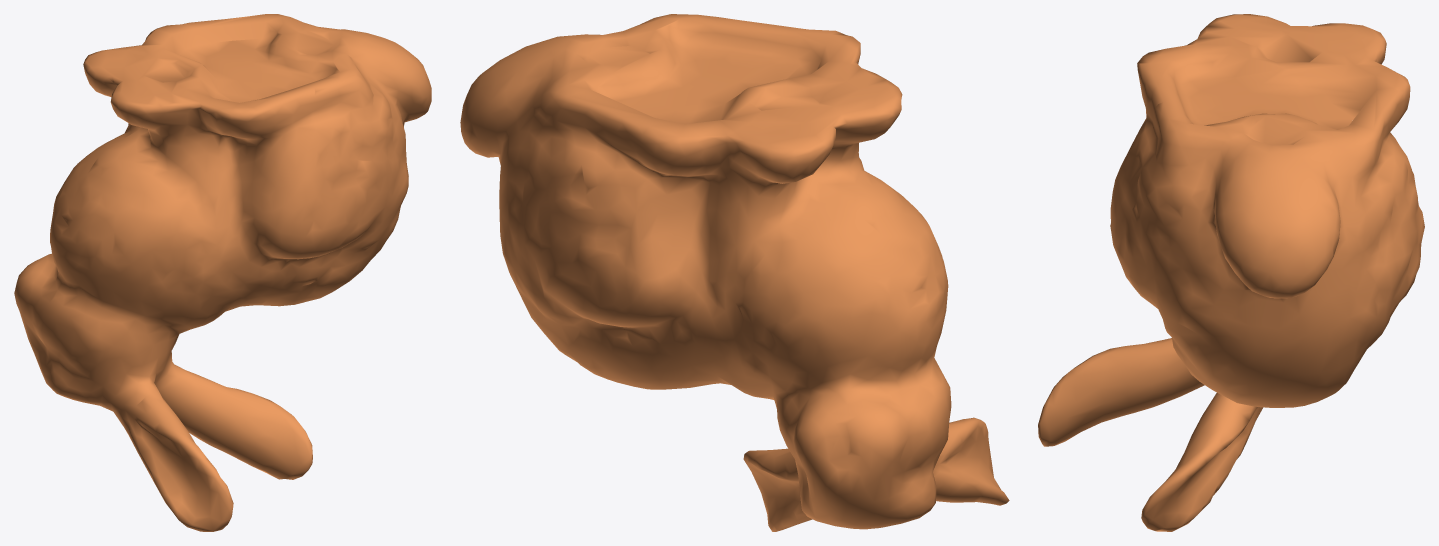
File: rigid_bunny2.gltf
3 renders of one model, left to right at view 1: azimuth 30°, elevation 25°; view 2: azimuth 150°, elevation 25°; view 3: azimuth 270°, elevation 25°, orthographic. The views are drawn at different scales.
Parts seen in each view (by area): view 1: bunny_lod0; view 2: bunny_lod0; view 3: bunny_lod0.
Boxes of the visible parts, left/top/right/bottom form: bunny_lod0: left=14, top=14, right=431, bottom=531; bunny_lod0: left=460, top=14, right=1009, bottom=531; bunny_lod0: left=1038, top=14, right=1424, bottom=531.
Bounding box in the file's own units: 0.8206 × 0.8128 × 0.6367.
